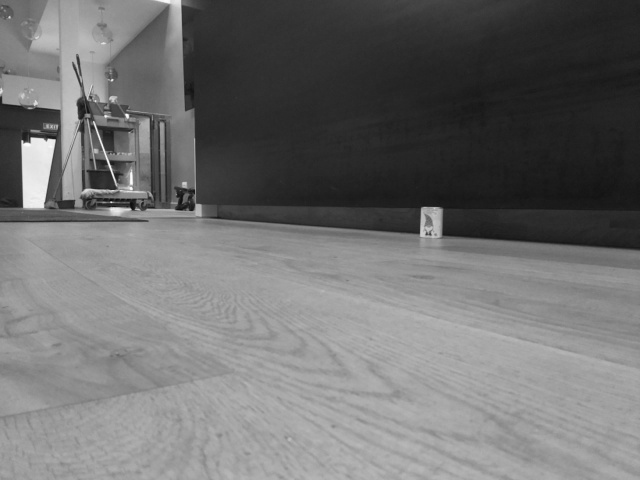gnome: (421, 212, 438, 237)
